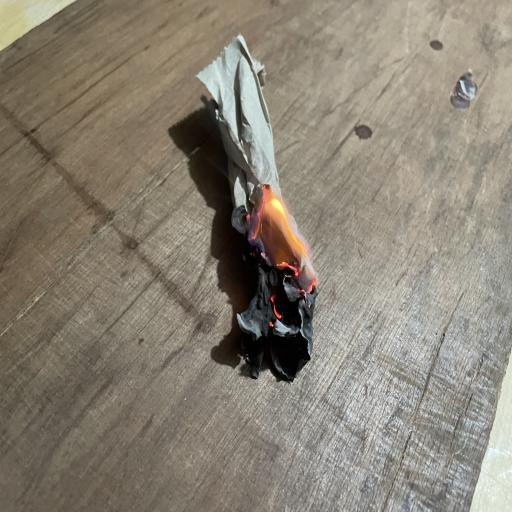fire: (204, 165, 340, 337)
